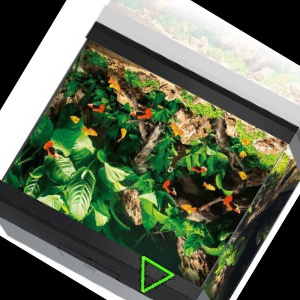triangle: (136, 251, 177, 296)
